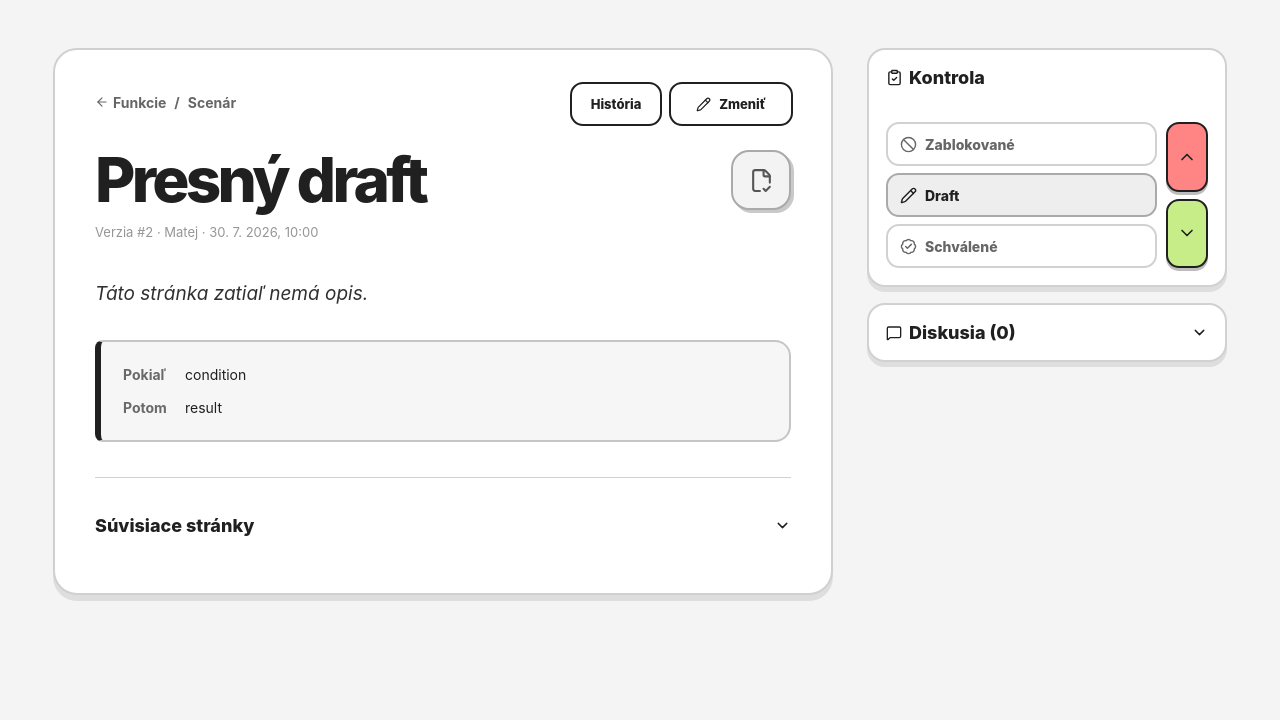
Test: PagePage revision links › defaults to a lone draft and renders Gherkin and references
The width and height of the screenshot is (1280, 720).
Expected: the heading "Presný draft" is shown, top-left (95, 142), bottom-right (425, 217)
Expected: the text "Táto stránka zatiaľ nemá opis." is shown, top-left (95, 282), bottom-right (368, 305)
What coordinates should you click on to do the following:
click the button "Súvisiace stránky"
I would click on:
 (175, 525)
Its box is top-left (95, 505), bottom-right (791, 545).
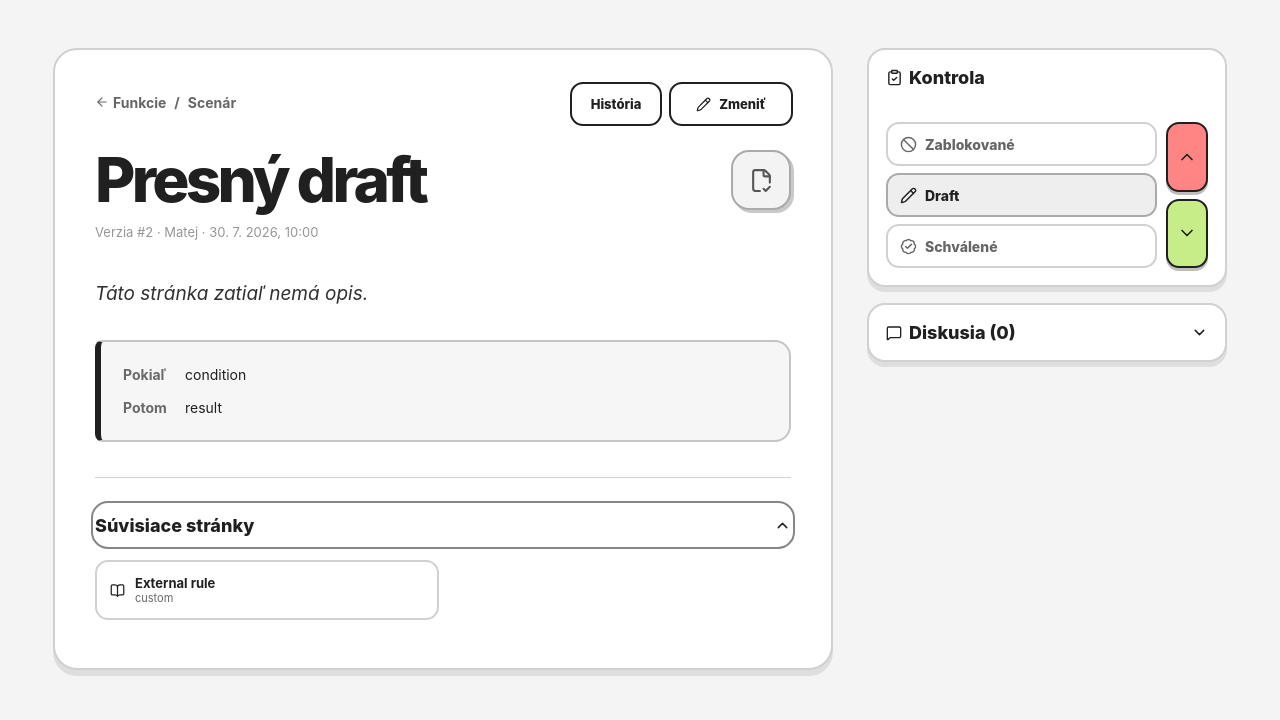
Expected: the icon with class "lucide-book-open" is shown, top-left (110, 583), bottom-right (125, 598)
